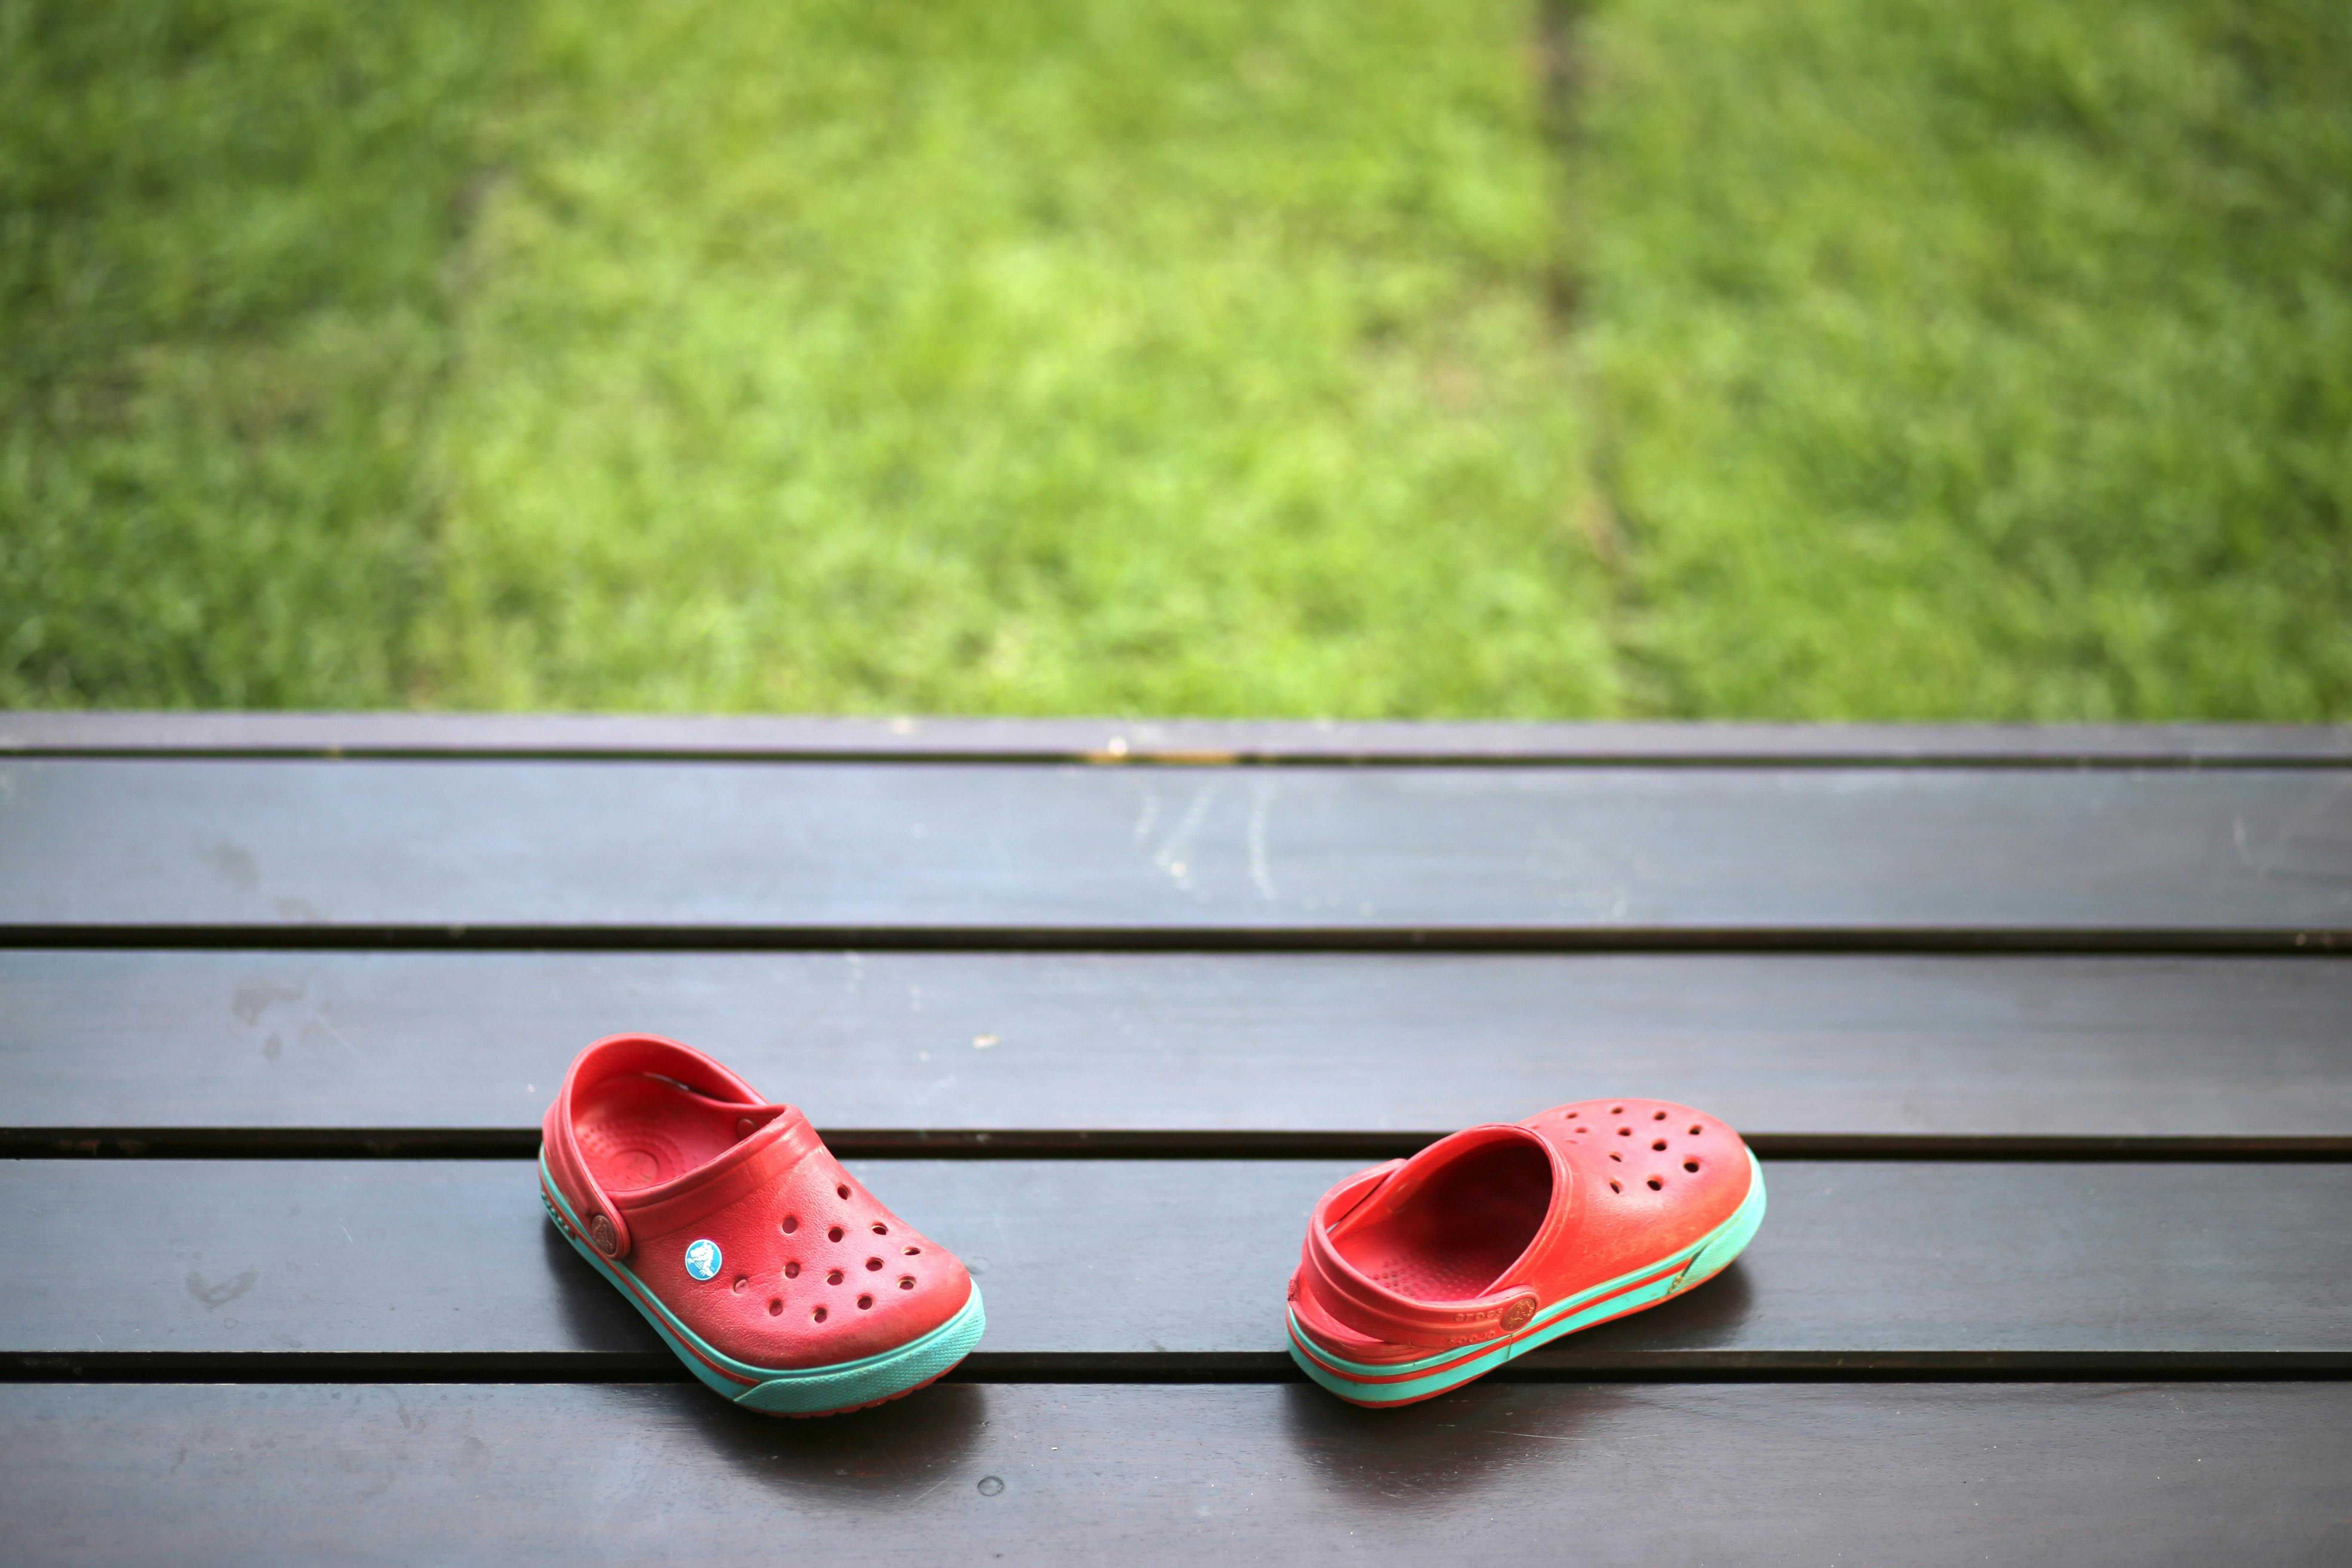Footwear: (451, 1013, 978, 1395), (1269, 1080, 1790, 1372)
